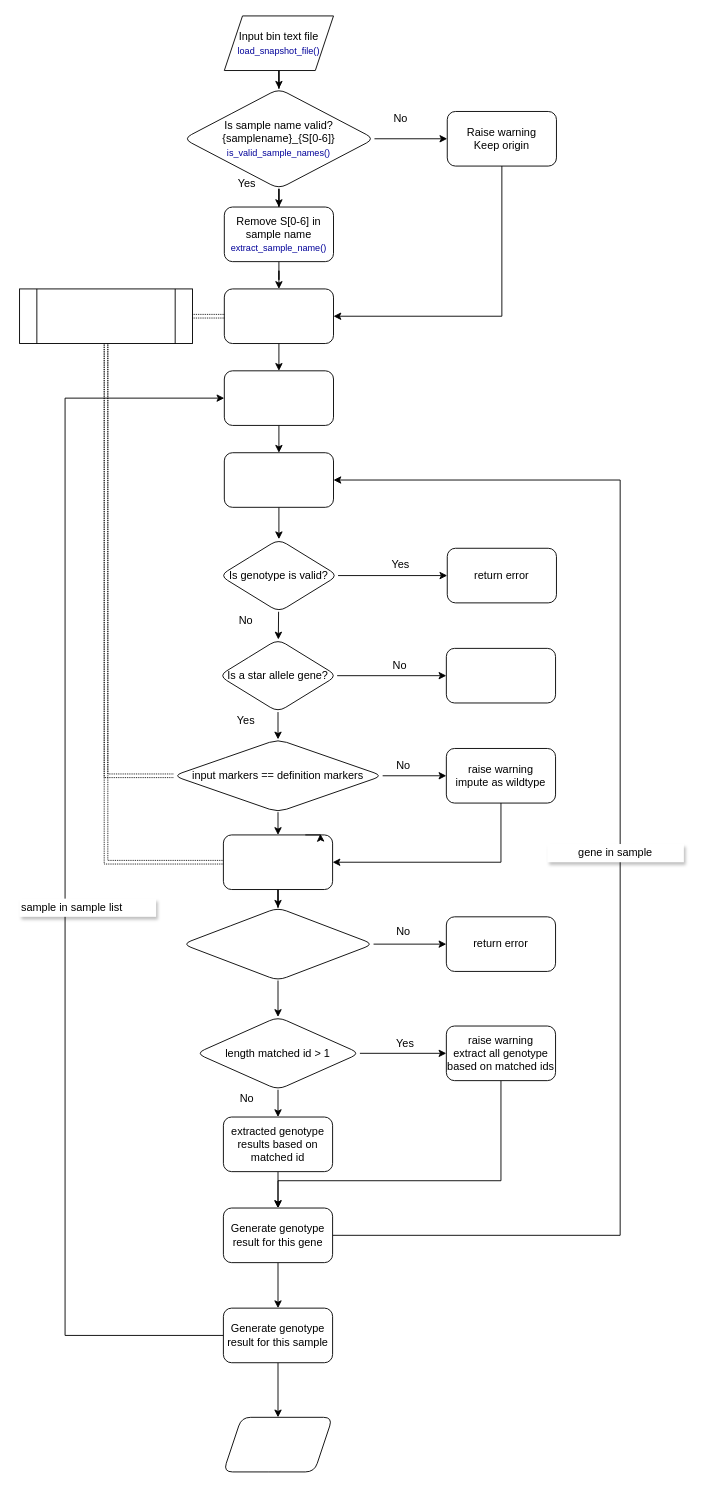
Image size: 704x1488. Some labels were removed from this diagram. The shapes that lost their labels are listed below. From the top down, each one's centre as x and y in pixels, then its label:
At (x=105, y=316): "Processed definition tables load_all_reference_tables()".
At (x=278, y=316): "Merge bin_data table with processed definition tables".
At (x=278, y=397): "Extract sample data".
At (x=278, y=479): "Extract gene data".
At (x=500, y=675): "Extract the genotype and other required information".
At (x=277, y=862): "generate a comparing pattern".
At (x=278, y=944): "Is pattern matched?".
At (x=277, y=1444): "Stop".
